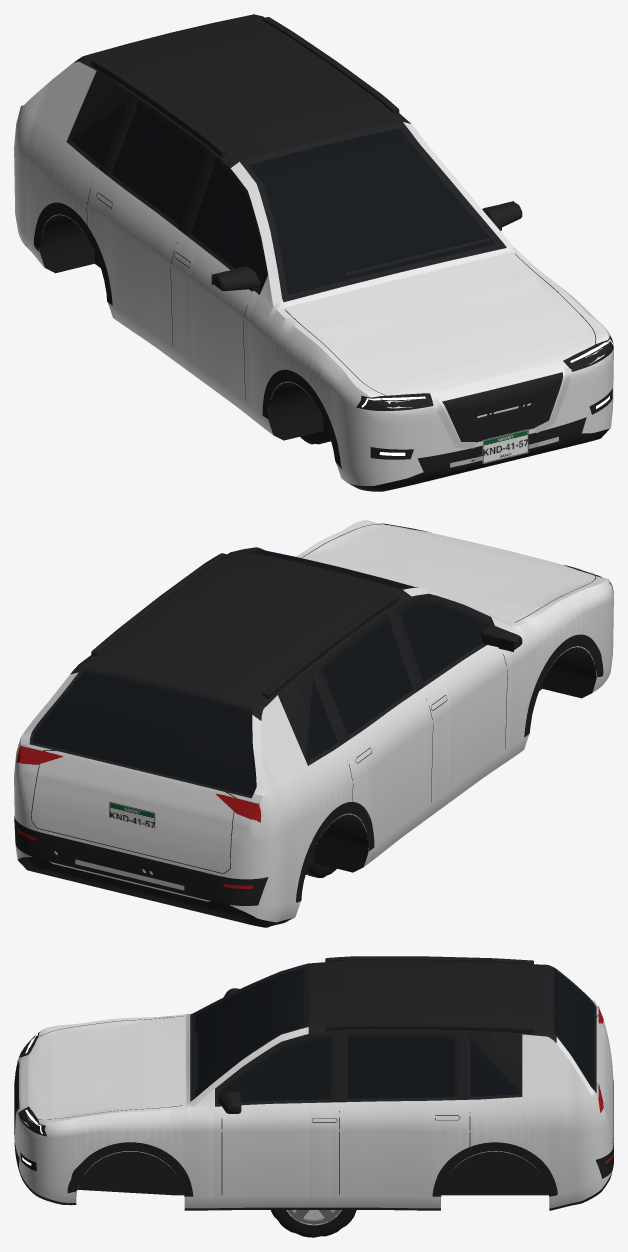
Rendered from nissan-kicks.glb.
3 views of the same model, one above another, from view 1: azimuth 30°, elevation 25°; view 2: azimuth 150°, elevation 25°; view 3: azimuth 270°, elevation 25° (orthographic). The views are drawn at different scales.
Parts seen in each view (by area): view 1: body; view 2: body; view 3: body, wheel.
Boxes of the visible parts, bbox=[...] form: body: bbox=[14, 14, 613, 491]; body: bbox=[14, 520, 613, 927]; body: bbox=[14, 956, 613, 1210]; wheel: bbox=[271, 1210, 356, 1237].
Size of the model in its own units: 2 by 1.92 by 4.3.
Materials: 1 (1 with a texture image).
